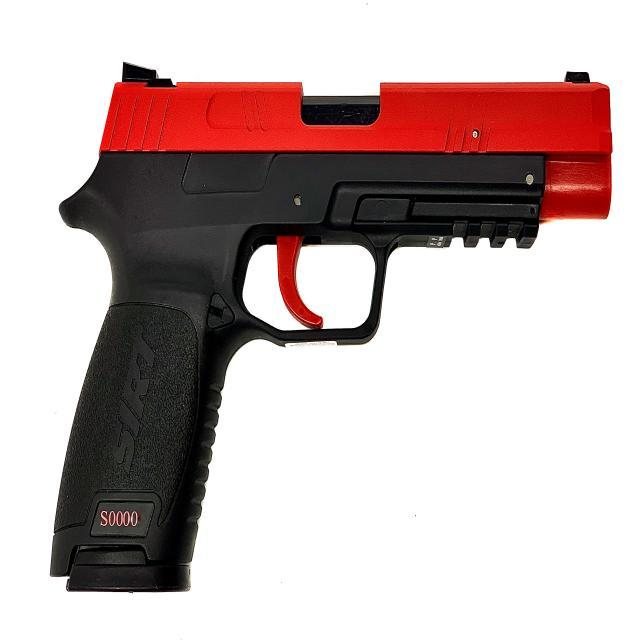Pistol: (24, 22, 627, 612)
